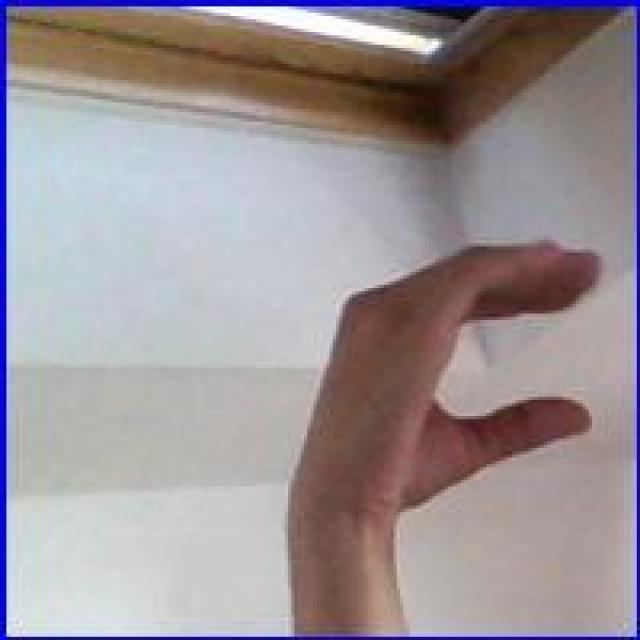C: (296, 229, 606, 520)
